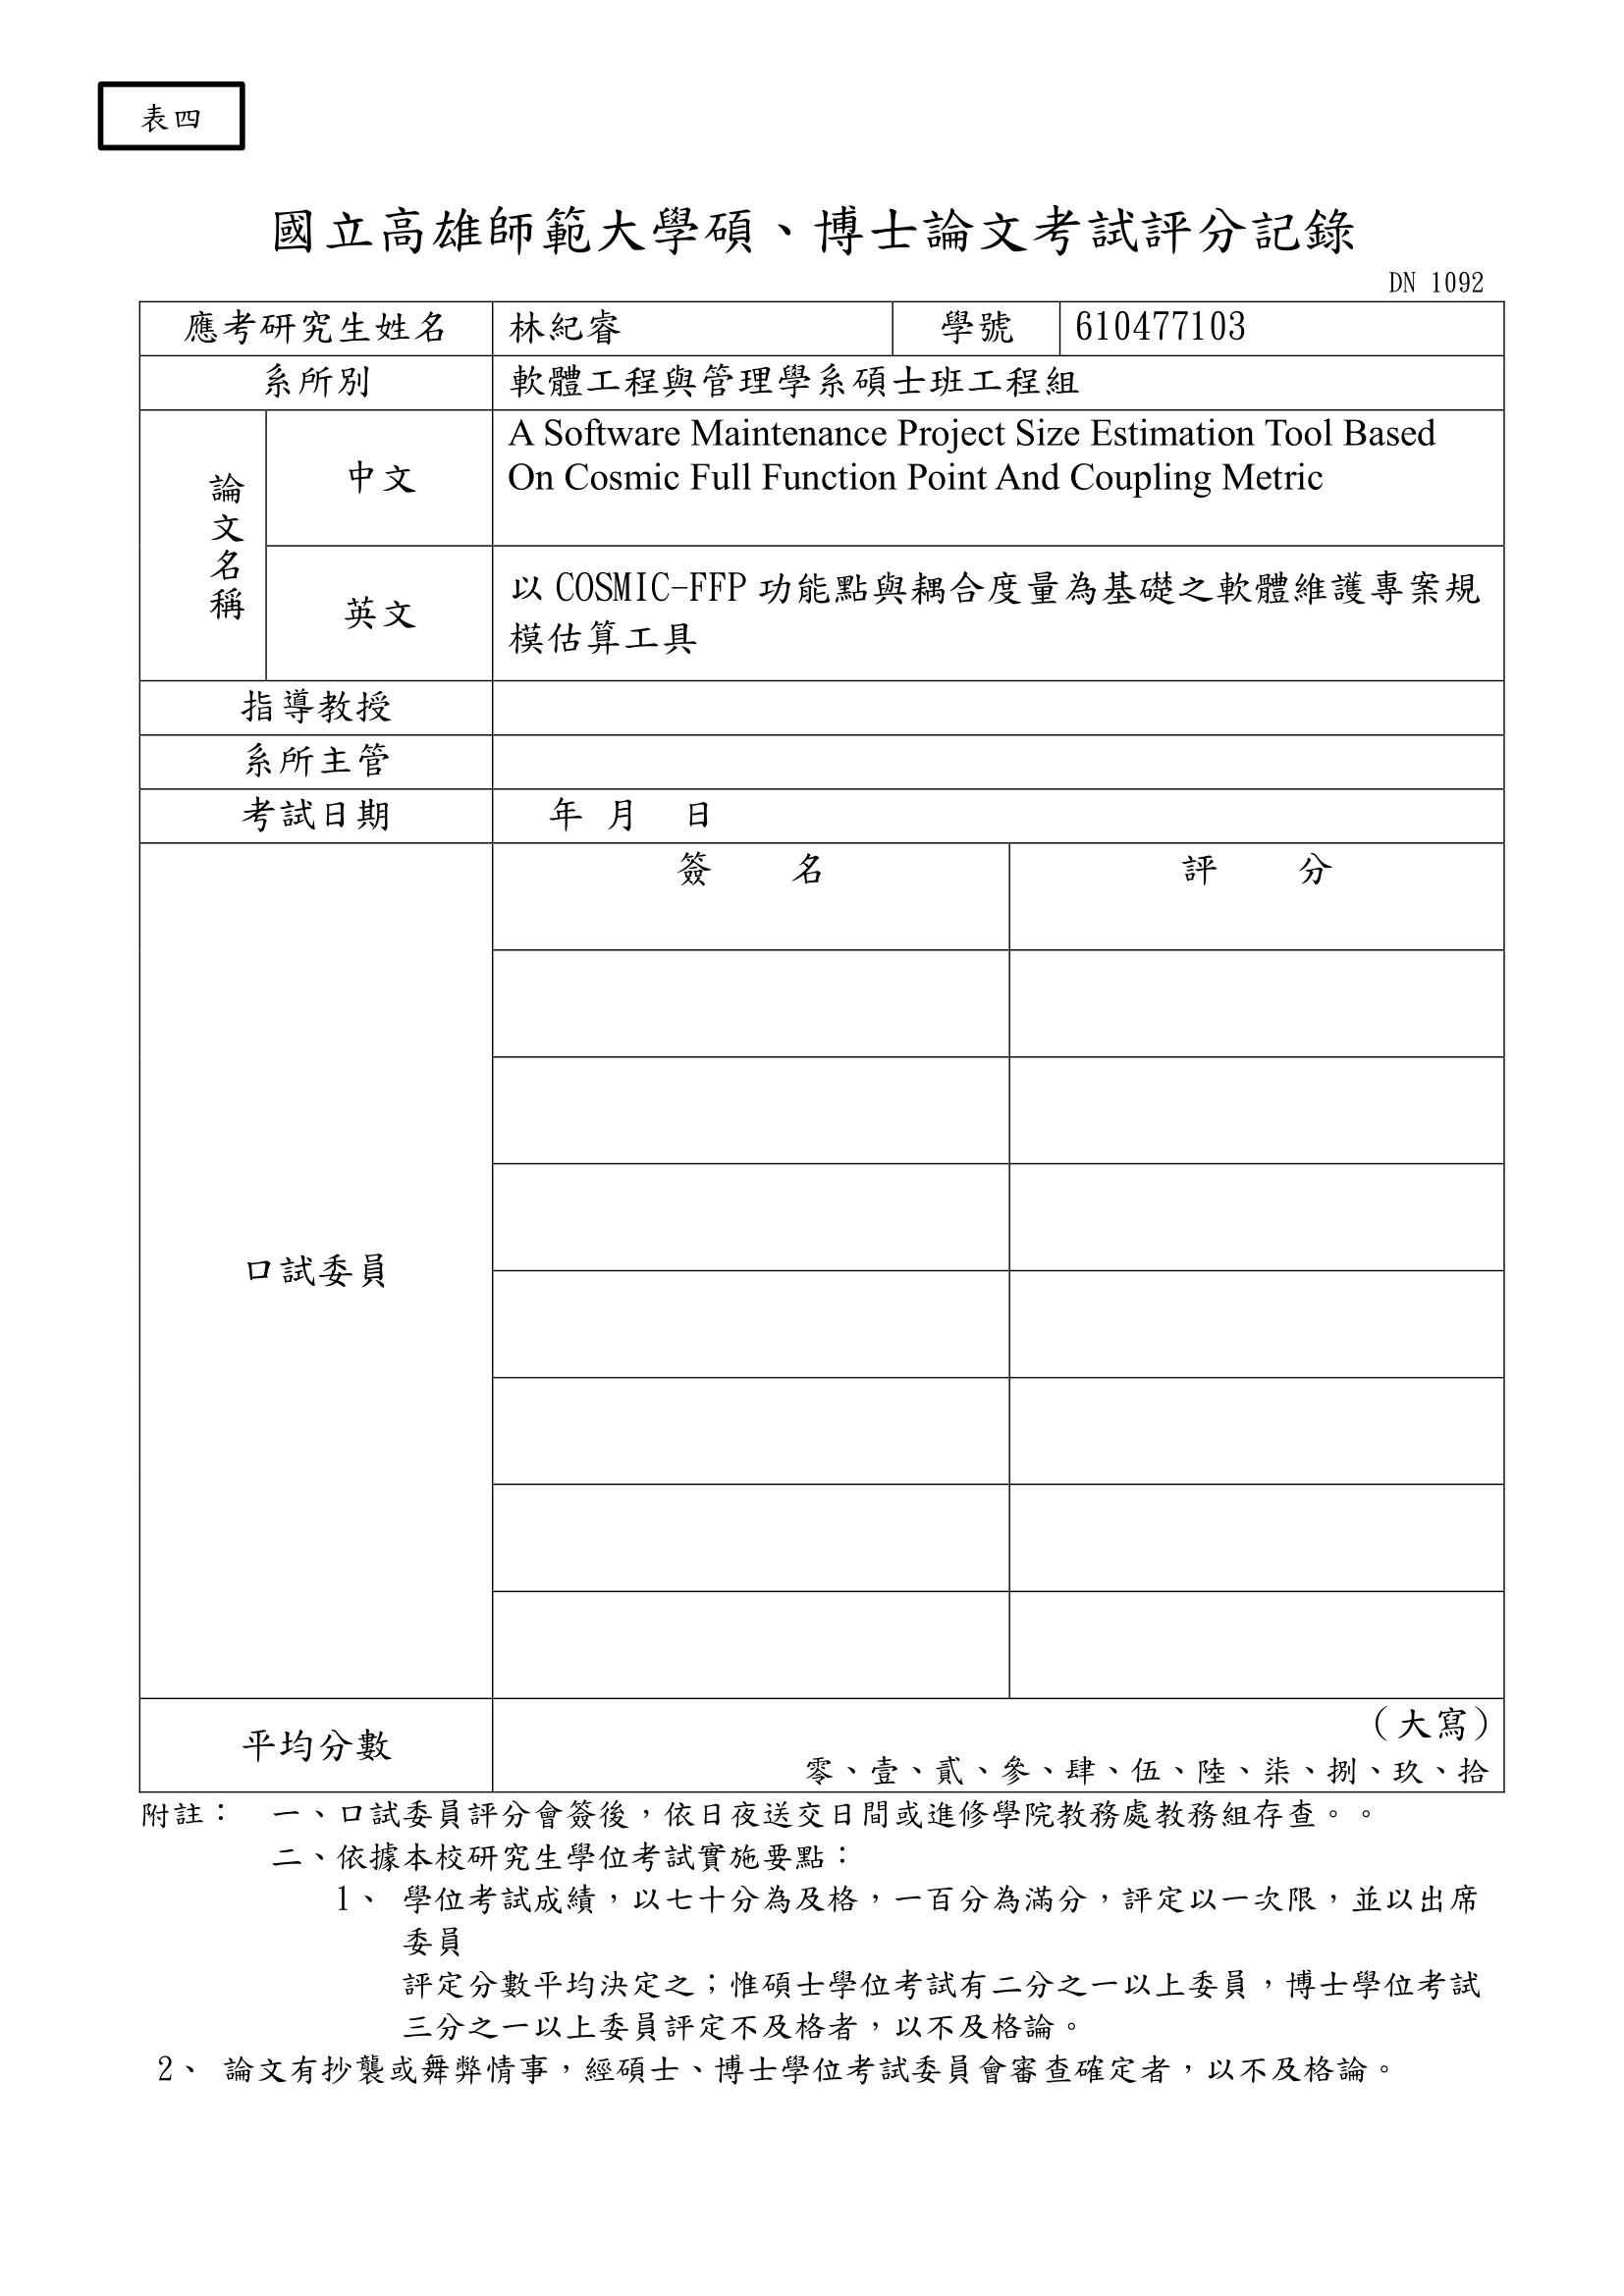table: (127, 290, 1504, 1801)
text: (132, 1801, 1513, 2108), (255, 179, 1360, 271), (127, 91, 209, 137), (1376, 264, 1492, 293)
